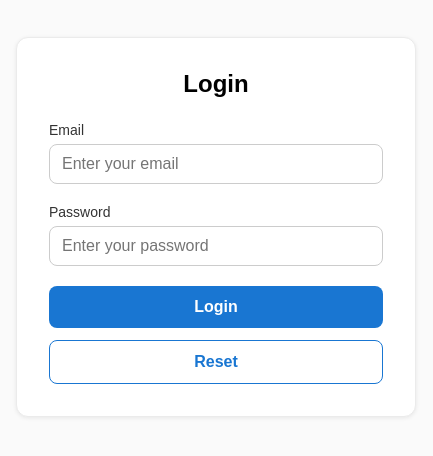
Login Page › clears the fields and errors when Reset is clicked
The width and height of the screenshot is (433, 456).
Type "notanemail" into the field labelled "Email". click: (216, 164)
box: [49, 144, 383, 184]
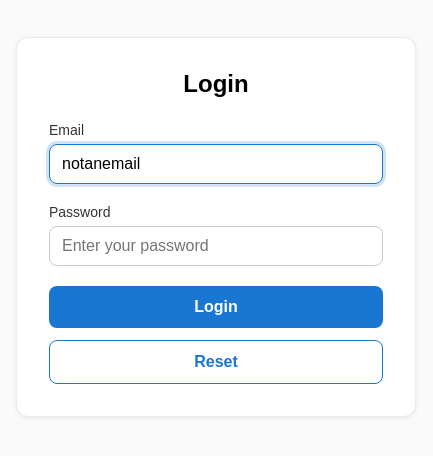
Type "short" into the password field labelled "Password". click: (216, 246)
box: [49, 226, 383, 266]
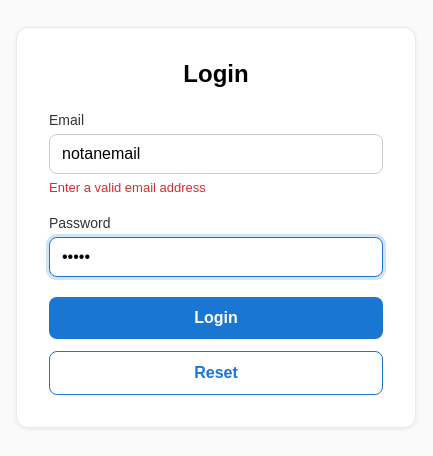
Click the button "Login". click: click(216, 318)
box: [49, 296, 383, 338]
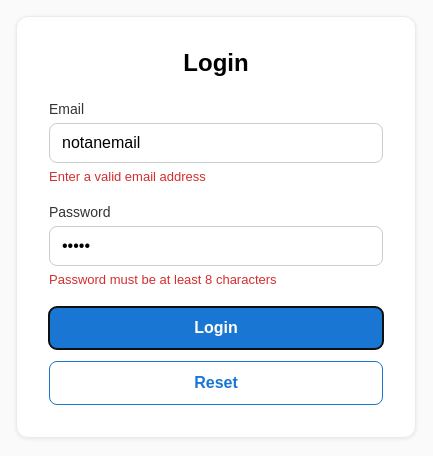
Now the text "Enter a valid email address" is shown, box [49, 169, 206, 184]
Now the text "Password must be at least 8 characters" is shown, box [49, 272, 277, 287]
Click the button "Reset". click: click(216, 383)
box: [49, 361, 383, 405]
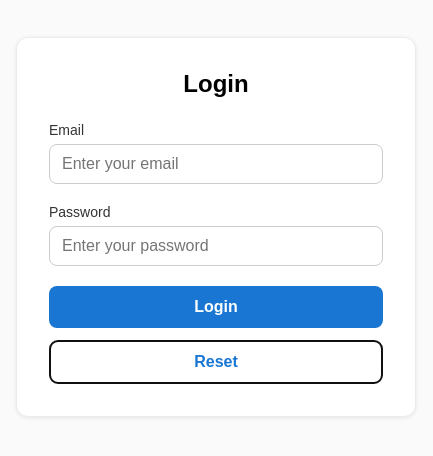
Now the field labelled "Email" is empty, box [49, 144, 383, 184]
Now the password field labelled "Password" is empty, box [49, 226, 383, 266]
Now the text "Enter a valid email address" is gone
